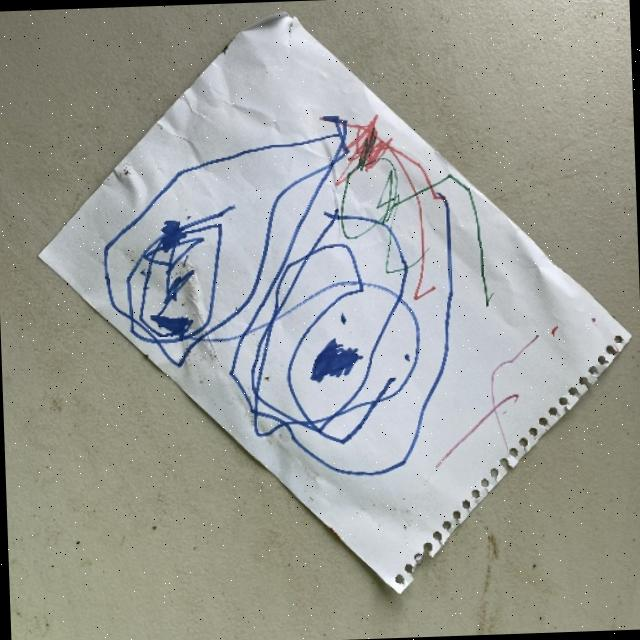paper: (27, 0, 640, 607)
